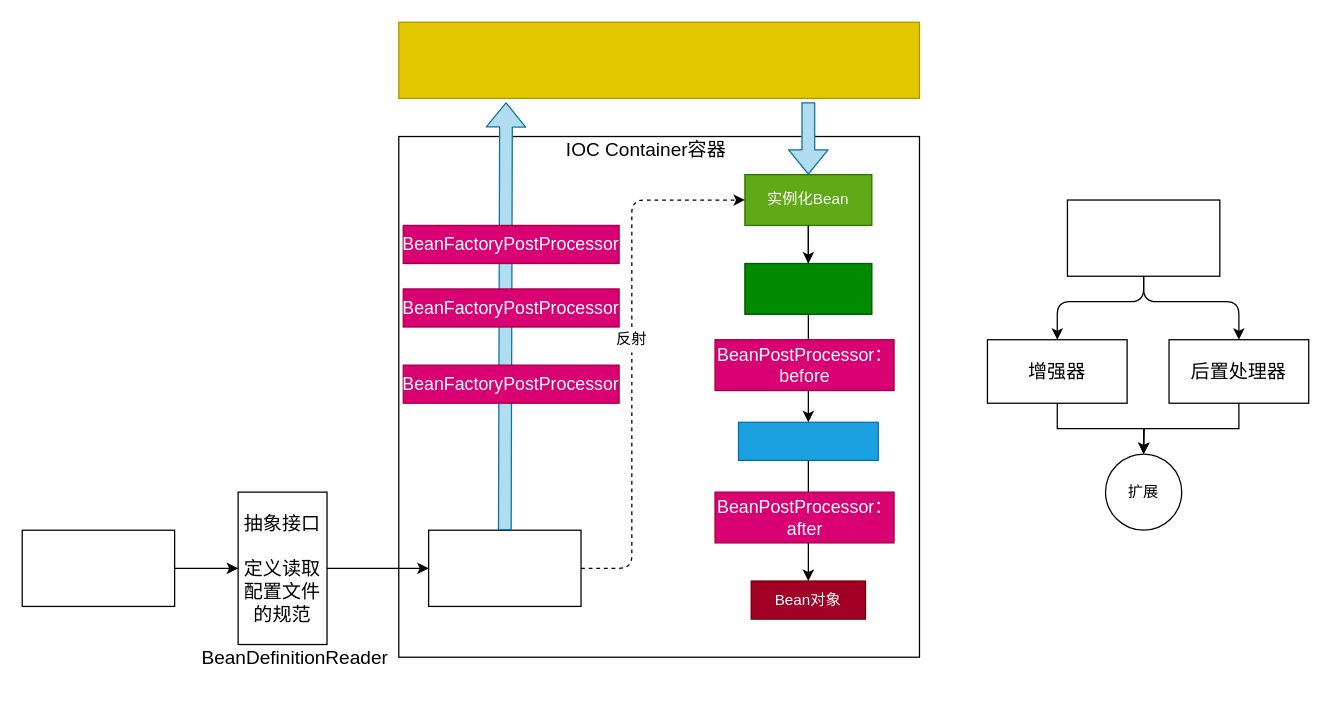
This 1331x705 diagram has some shape labels left out. Here are the shapes that lost their labels. From the top down, the centre of each, then its label:
At (658,59): "BeanFactory".
At (1143,237): "PostProcessor".
At (808,288): "填充属性".
At (807,440): "初始化Bean".
At (98,567): "XML配置文件".
At (504,567): "Bean定义信息 BeanDefinition".
